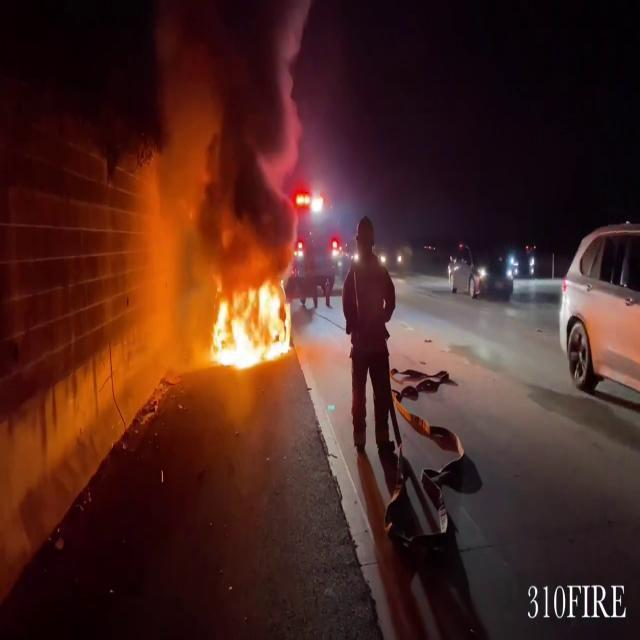Fire: (200, 270, 292, 376)
Smoke: (128, 0, 322, 302)
